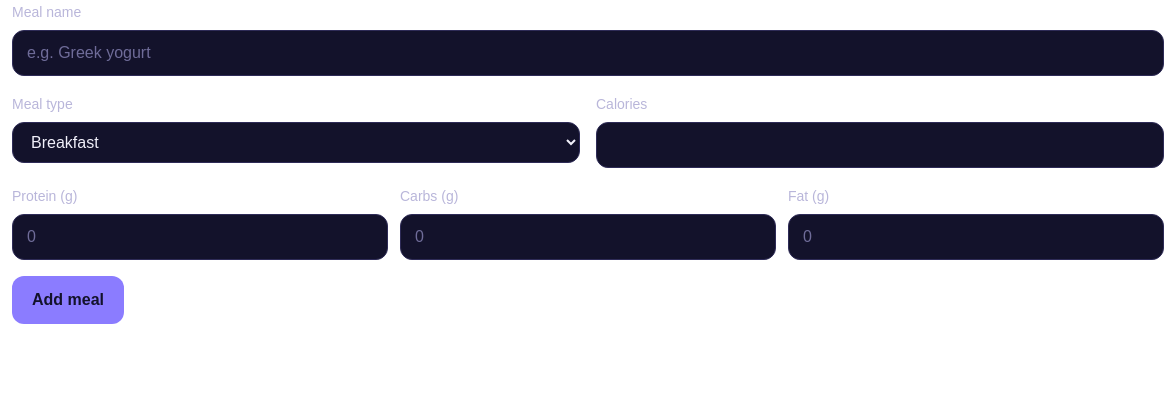
MealForm › shows a general message when saving fails without a message
The image size is (1176, 401).
Type "Apple" into the field labelled "Meal name".
click(588, 53); type("Apple")  # box [12,30,1164,76]
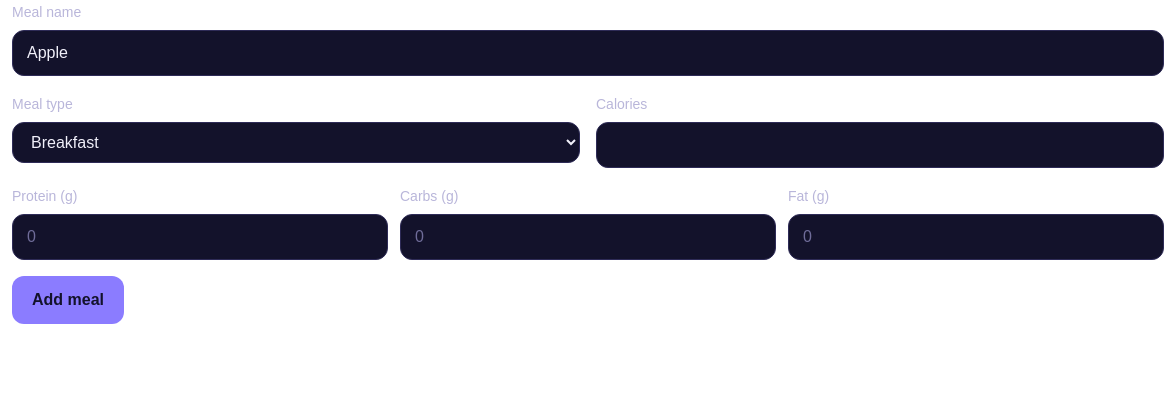
Type "95" into the number field labelled "Calories".
click(880, 145); type("95")  # box [596,122,1164,168]
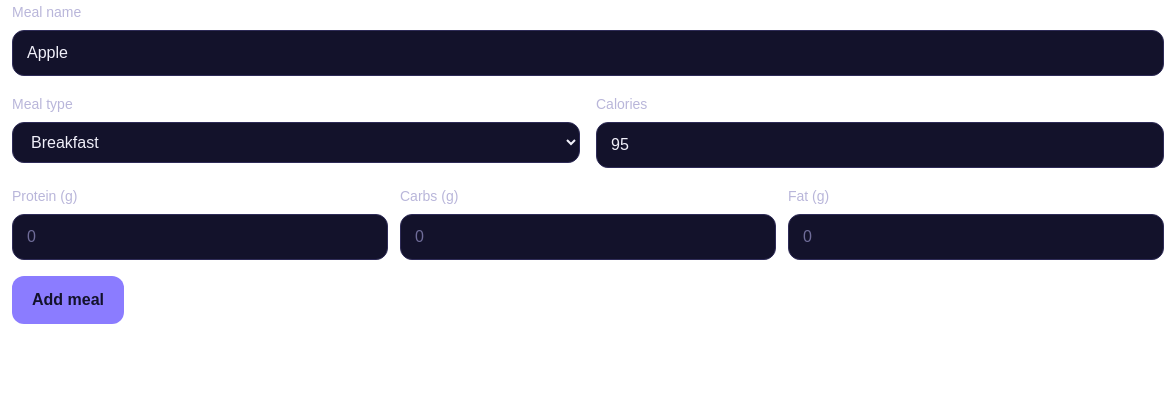
Click the button "Add meal".
click(68, 300)  # box [12,276,124,324]
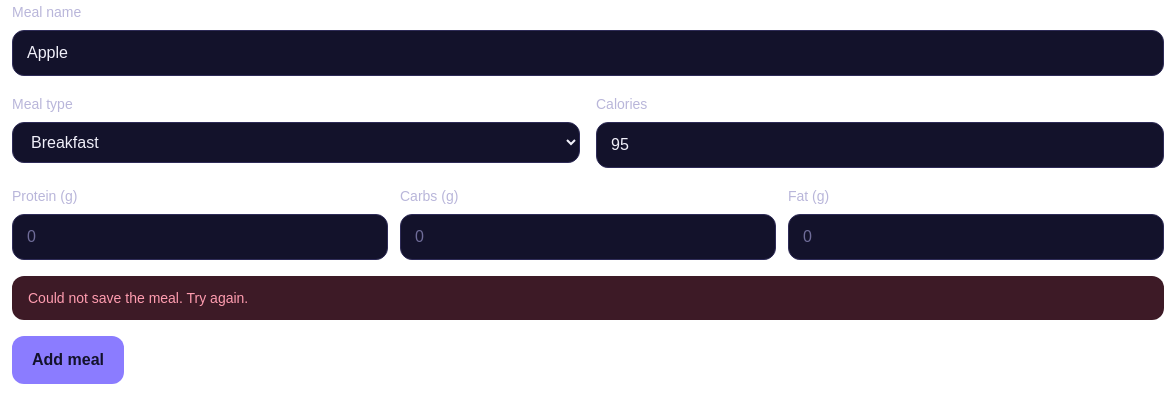
Check: the message reads "Could not save the meal. Try again.", box [28,290,248,306]
